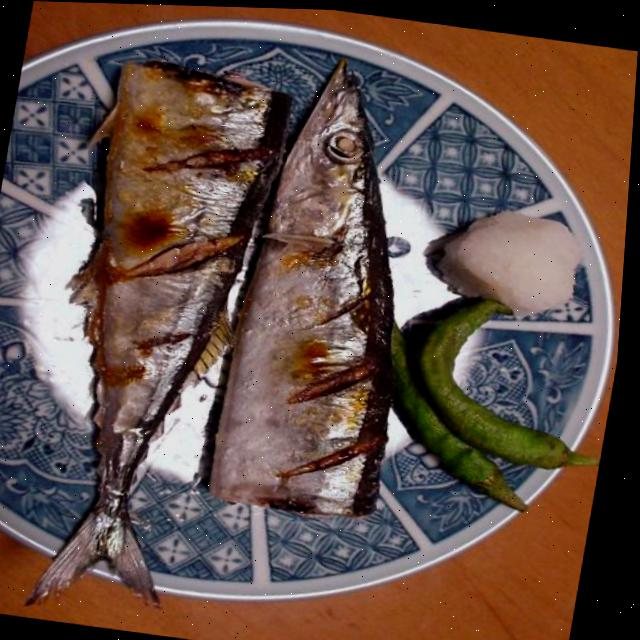熟制海鲜: (39, 27, 423, 636)
